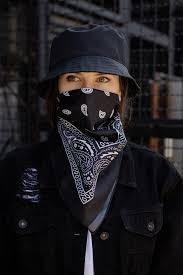cap: (41, 17, 143, 89)
scarf-kerchief: (49, 84, 131, 220)
